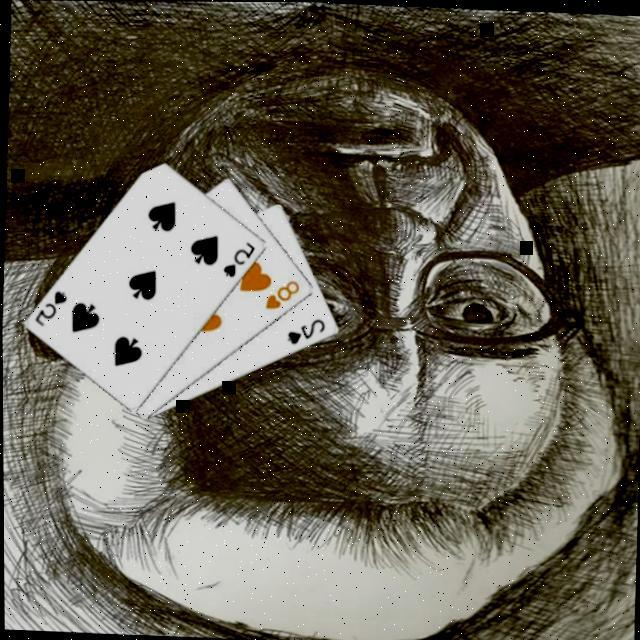2S: (281, 316, 326, 350)
5S: (218, 239, 257, 282), (30, 288, 69, 331)
8H: (260, 277, 301, 314)
